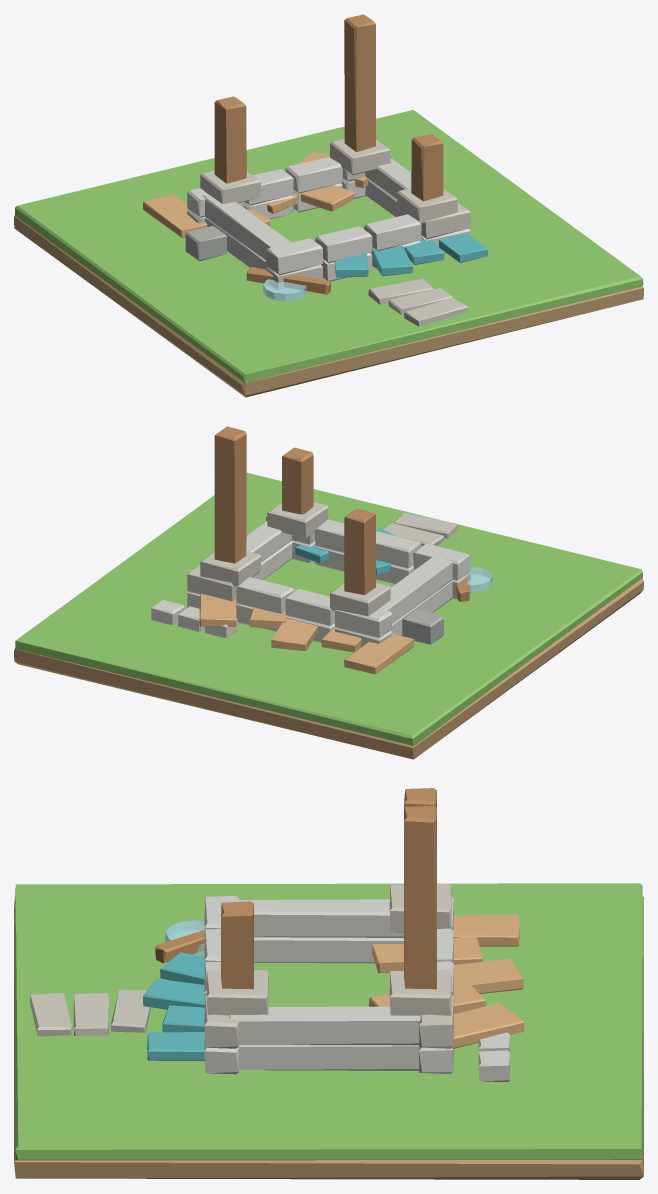
The model's file is tower_l03_ruined_LOD1.glb.
The picture shows the model from 3 angles, top to bottom: view 1: azimuth 30°, elevation 25°; view 2: azimuth 150°, elevation 25°; view 3: azimuth 270°, elevation 25°; orthographic projection. The views are drawn at different scales.
Visible parts, largest first — view 1: tower_l03_grass_tile_tower_l03_ruined_LOD1_tmp, tower_l03_earth_tile_tower_l03_ruined_LOD1_tmp, snapped_upright_0.58_0.52_tower_l03_ruined_LOD1_tmp, snapped_upright_-0.58_0.52_tower_l03_ruined_LOD1_tmp, ruin_stone_return_1_-0.72_tower_l03_ruined_LOD1_tmp, snapped_upright_0.58_-0.52_tower_l03_ruined_LOD1_tmp, ruin_stone_course_1_-1_0_tower_l03_ruined_LOD1_tmp, ruin_stone_course_1_-1_2_tower_l03_ruined_LOD1_tmp, ruin_stone_course_1_1_2_tower_l03_ruined_LOD1_tmp, ruin_stone_course_1_-1_1_tower_l03_ruined_LOD1_tmp, foot_remnant_0.58_0.52_tower_l03_ruined_LOD1_tmp, collapsed_deck_0_tower_l03_ruined_LOD1_tmp (+19 smaller); view 2: tower_l03_grass_tile_tower_l03_ruined_LOD1_tmp, tower_l03_earth_tile_tower_l03_ruined_LOD1_tmp, snapped_upright_0.58_0.52_tower_l03_ruined_LOD1_tmp, snapped_upright_-0.58_0.52_tower_l03_ruined_LOD1_tmp, ruin_stone_return_1_-0.72_tower_l03_ruined_LOD1_tmp, snapped_upright_0.58_-0.52_tower_l03_ruined_LOD1_tmp, collapsed_deck_0_tower_l03_ruined_LOD1_tmp, ruin_stone_course_1_1_2_tower_l03_ruined_LOD1_tmp, foot_remnant_0.58_-0.52_tower_l03_ruined_LOD1_tmp, foot_remnant_0.58_0.52_tower_l03_ruined_LOD1_tmp, foot_remnant_-0.58_0.52_tower_l03_ruined_LOD1_tmp, ruin_stone_course_1_1_1_tower_l03_ruined_LOD1_tmp (+18 smaller); view 3: tower_l03_grass_tile_tower_l03_ruined_LOD1_tmp, tower_l03_earth_tile_tower_l03_ruined_LOD1_tmp, ruin_stone_return_1_0.72_tower_l03_ruined_LOD1_tmp, snapped_upright_0.58_0.52_tower_l03_ruined_LOD1_tmp, ruin_stone_return_1_-0.72_tower_l03_ruined_LOD1_tmp, ruin_stone_return_0_0.72_tower_l03_ruined_LOD1_tmp, ruin_stone_return_0_-0.72_tower_l03_ruined_LOD1_tmp, snapped_upright_0.58_-0.52_tower_l03_ruined_LOD1_tmp, foot_remnant_0.58_0.52_tower_l03_ruined_LOD1_tmp, foot_remnant_0.58_-0.52_tower_l03_ruined_LOD1_tmp, collapsed_deck_4_tower_l03_ruined_LOD1_tmp, collapsed_deck_0_tower_l03_ruined_LOD1_tmp (+22 smaller).
Part boxes in pixels (<box>): tower_l03_grass_tile_tower_l03_ruined_LOD1_tmp: <box>15,110,643,383</box>; tower_l03_earth_tile_tower_l03_ruined_LOD1_tmp: <box>14,215,643,397</box>; snapped_upright_0.58_0.52_tower_l03_ruined_LOD1_tmp: <box>344,14,375,151</box>; snapped_upright_-0.58_0.52_tower_l03_ruined_LOD1_tmp: <box>214,96,246,183</box>; ruin_stone_return_1_-0.72_tower_l03_ruined_LOD1_tmp: <box>203,194,293,260</box>; snapped_upright_0.58_-0.52_tower_l03_ruined_LOD1_tmp: <box>411,134,443,201</box>; ruin_stone_course_1_-1_0_tower_l03_ruined_LOD1_tmp: <box>266,238,322,275</box>; ruin_stone_course_1_-1_2_tower_l03_ruined_LOD1_tmp: <box>364,214,421,250</box>; ruin_stone_course_1_1_2_tower_l03_ruined_LOD1_tmp: <box>285,157,342,193</box>; ruin_stone_course_1_-1_1_tower_l03_ruined_LOD1_tmp: <box>315,226,372,263</box>; foot_remnant_0.58_0.52_tower_l03_ruined_LOD1_tmp: <box>330,138,390,175</box>; collapsed_deck_0_tower_l03_ruined_LOD1_tmp: <box>143,194,207,237</box>; tower_l03_grass_tile_tower_l03_ruined_LOD1_tmp: <box>15,472,642,746</box>; tower_l03_earth_tile_tower_l03_ruined_LOD1_tmp: <box>14,578,643,759</box>; snapped_upright_0.58_0.52_tower_l03_ruined_LOD1_tmp: <box>214,426,246,563</box>; snapped_upright_-0.58_0.52_tower_l03_ruined_LOD1_tmp: <box>344,508,375,595</box>; ruin_stone_return_1_-0.72_tower_l03_ruined_LOD1_tmp: <box>376,554,452,623</box>; snapped_upright_0.58_-0.52_tower_l03_ruined_LOD1_tmp: <box>282,447,313,514</box>; collapsed_deck_0_tower_l03_ruined_LOD1_tmp: <box>344,633,414,674</box>; ruin_stone_course_1_1_2_tower_l03_ruined_LOD1_tmp: <box>236,577,293,613</box>; foot_remnant_0.58_-0.52_tower_l03_ruined_LOD1_tmp: <box>267,502,327,537</box>; foot_remnant_0.58_0.52_tower_l03_ruined_LOD1_tmp: <box>200,551,260,586</box>; foot_remnant_-0.58_0.52_tower_l03_ruined_LOD1_tmp: <box>330,582,390,616</box>; ruin_stone_course_1_1_1_tower_l03_ruined_LOD1_tmp: <box>285,589,334,625</box>; tower_l03_grass_tile_tower_l03_ruined_LOD1_tmp: <box>15,883,642,1160</box>; tower_l03_earth_tile_tower_l03_ruined_LOD1_tmp: <box>14,896,643,1179</box>; ruin_stone_return_1_0.72_tower_l03_ruined_LOD1_tmp: <box>229,1006,420,1045</box>; snapped_upright_0.58_0.52_tower_l03_ruined_LOD1_tmp: <box>404,805,436,989</box>; ruin_stone_return_1_-0.72_tower_l03_ruined_LOD1_tmp: <box>237,899,403,937</box>; ruin_stone_return_0_0.72_tower_l03_ruined_LOD1_tmp: <box>238,1044,419,1070</box>; ruin_stone_return_0_-0.72_tower_l03_ruined_LOD1_tmp: <box>254,937,403,963</box>; snapped_upright_0.58_-0.52_tower_l03_ruined_LOD1_tmp: <box>221,901,253,989</box>; foot_remnant_0.58_0.52_tower_l03_ruined_LOD1_tmp: <box>389,970,451,1015</box>; foot_remnant_0.58_-0.52_tower_l03_ruined_LOD1_tmp: <box>206,970,268,1015</box>; collapsed_deck_4_tower_l03_ruined_LOD1_tmp: <box>453,1003,524,1048</box>; collapsed_deck_0_tower_l03_ruined_LOD1_tmp: <box>453,915,519,946</box>.
Size of the model in its own units: 3.6 by 1.76 by 3.58.
